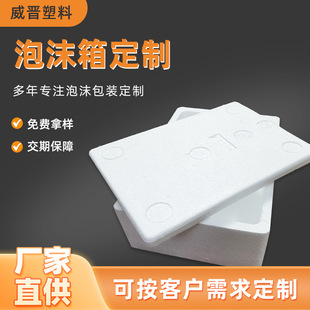Boxes: (90, 102, 309, 265)
